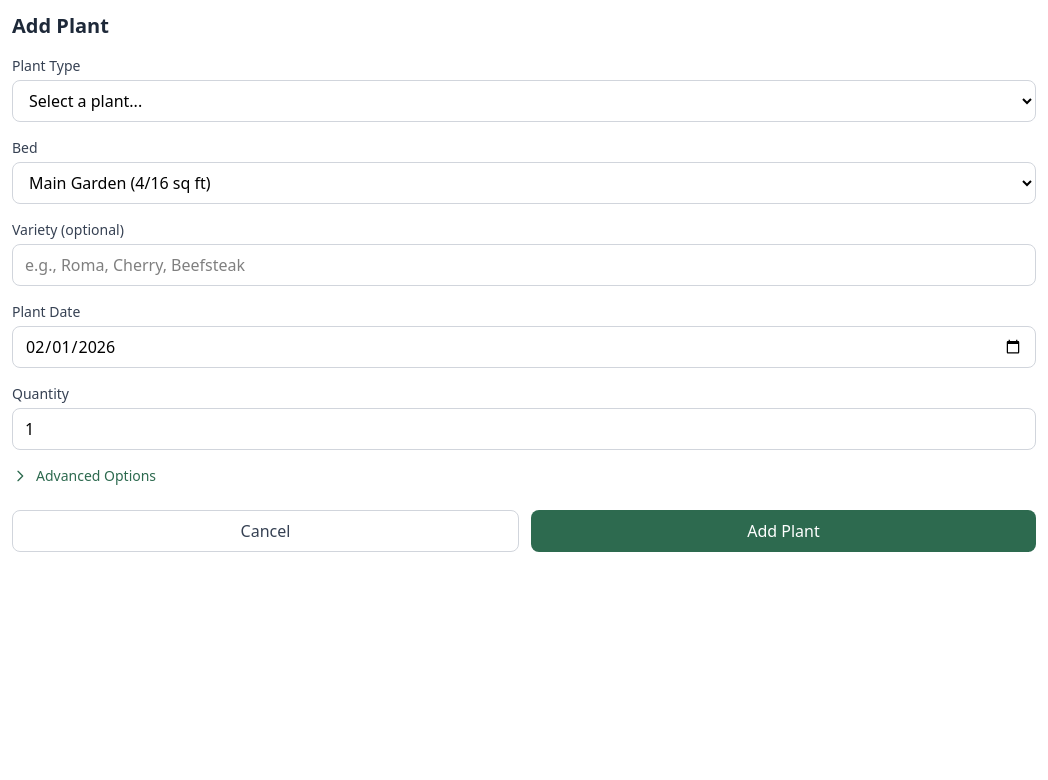
PlantForm › advanced section › toggles advanced options on click
Click the button "Advanced Options".
click(84, 476)  # box [12,466,156,486]
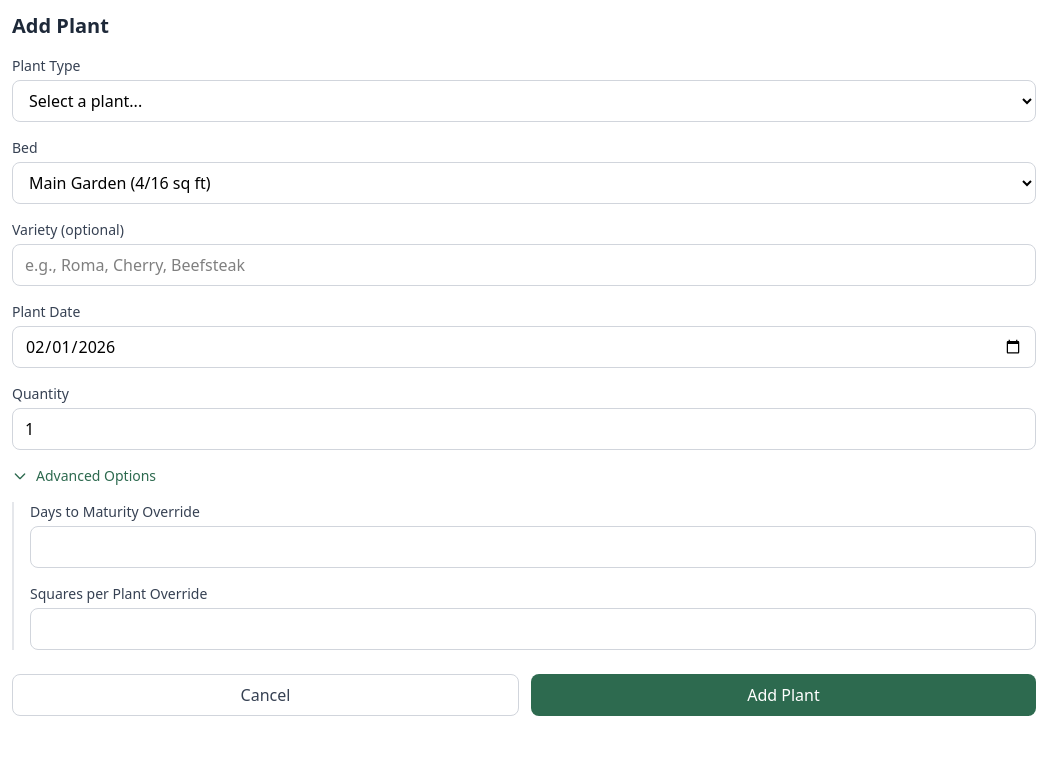
Expected: the number field labelled "Days to Maturity Override" is shown, [30,526,1036,568]
Expected: the number field labelled "Squares per Plant Override" is shown, [30,608,1036,650]
Click the button "Advanced Options".
click(84, 476)  # box [12,466,156,486]
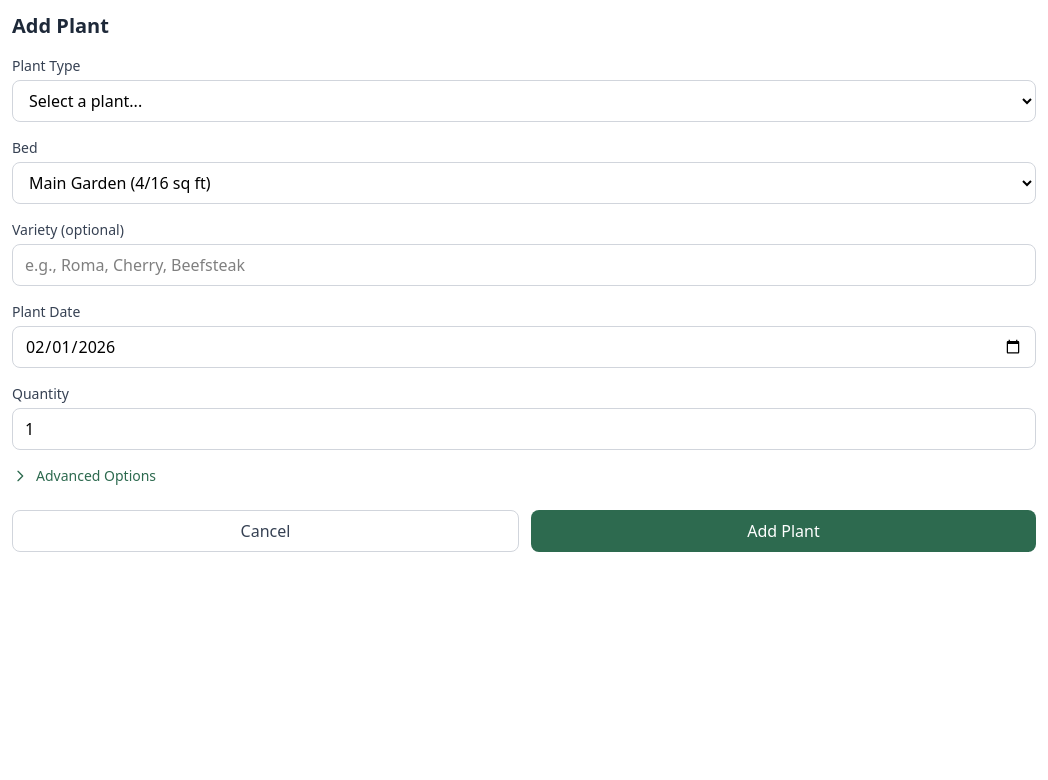
Expected: the label labelled "Days to Maturity Override" is gone
